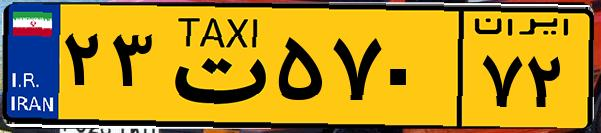0: (385, 28, 445, 110)
2: (57, 26, 110, 100), (525, 38, 570, 115)
3: (110, 28, 158, 98)
5: (270, 28, 330, 110)
7: (330, 28, 385, 110), (475, 38, 525, 113)
ت: (158, 12, 270, 120)
